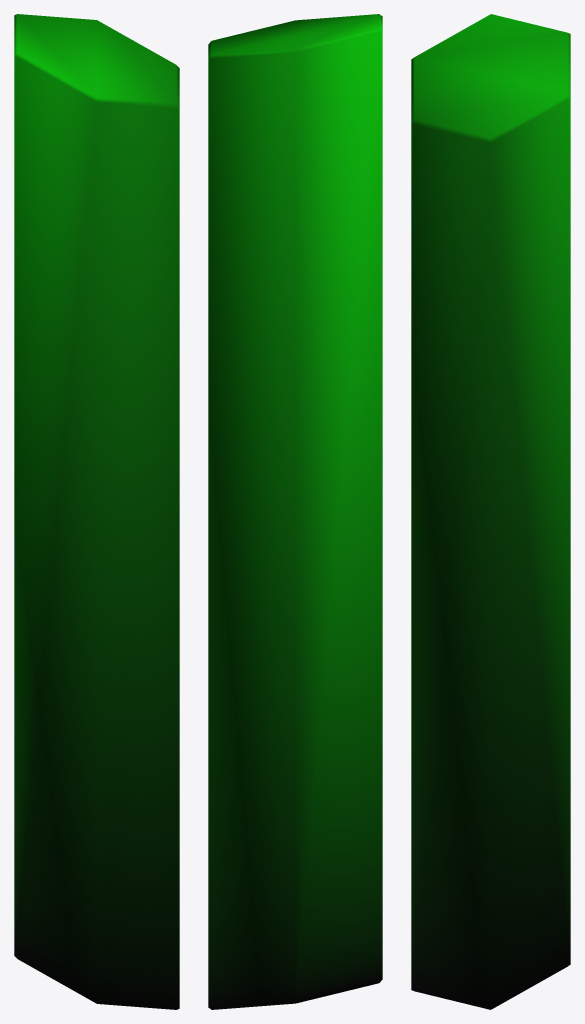
The model's file is SM_RockHexic_Piece09.fbx.
The picture shows the model from 3 angles, left to right: view 1: azimuth 30°, elevation 25°; view 2: azimuth 150°, elevation 25°; view 3: azimuth 270°, elevation 25°; orthographic projection. The views are drawn at different scales.
Parts seen in each view (by area): view 1: SM_RockHexic_Piece09; view 2: SM_RockHexic_Piece09; view 3: SM_RockHexic_Piece09.
Boxes of the visible parts, x1=… form: SM_RockHexic_Piece09: x1=14, y1=14, x2=179, y2=1009; SM_RockHexic_Piece09: x1=208, y1=14, x2=382, y2=1009; SM_RockHexic_Piece09: x1=411, y1=14, x2=570, y2=1009.
Bounding box in the file's own units: 360 × 312 × 1994.
